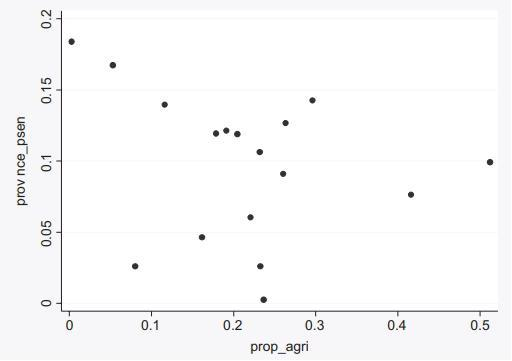axis: (57, 306, 502, 318), (56, 7, 66, 316)
point: (242, 208, 261, 225), (229, 124, 246, 142), (253, 141, 270, 159), (195, 226, 212, 243), (128, 256, 144, 273), (276, 163, 293, 178), (481, 156, 498, 171), (106, 56, 121, 72), (157, 96, 172, 112), (304, 92, 320, 107), (404, 188, 420, 202), (278, 118, 294, 131), (257, 292, 271, 306), (254, 258, 267, 273), (220, 124, 234, 137), (64, 37, 79, 48), (208, 127, 220, 140)
